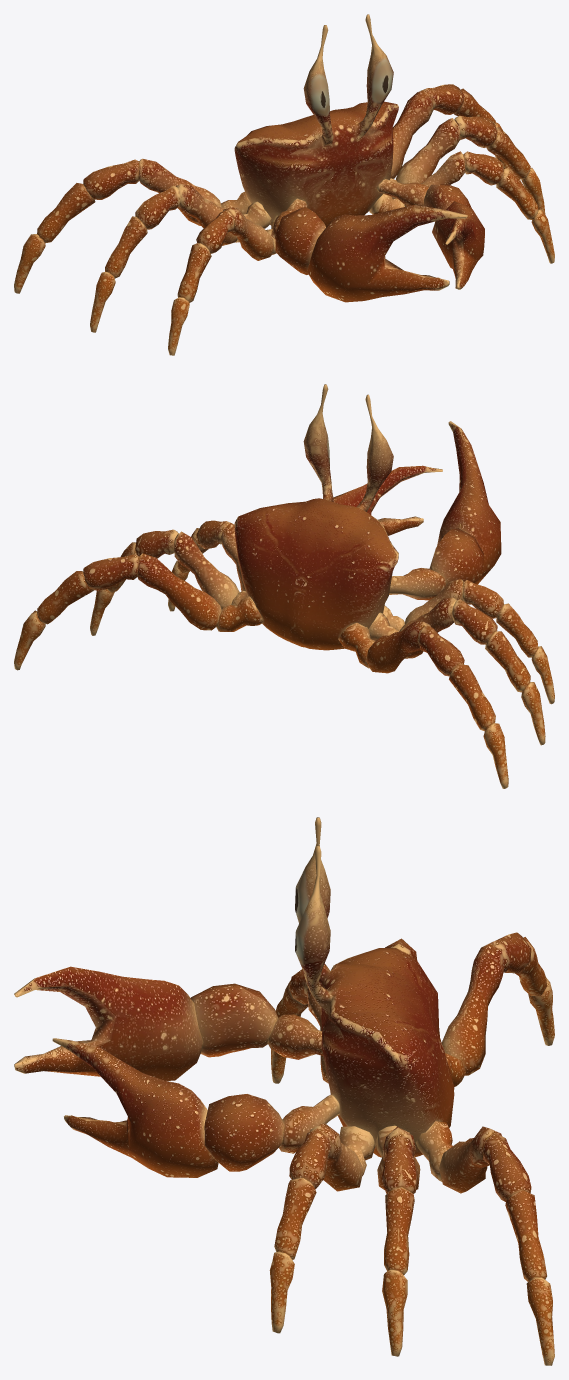
File: Cangrejo_PBR.glb
3 renders of one model, top to bottom at view 1: azimuth 30°, elevation 25°; view 2: azimuth 150°, elevation 25°; view 3: azimuth 270°, elevation 25°, orthographic. The views are drawn at different scales.
Visible parts, largest first — view 1: Cangrejo_MAIN_Geo; view 2: Cangrejo_MAIN_Geo; view 3: Cangrejo_MAIN_Geo.
Part boxes in pixels (x1,y1,x2,y2): Cangrejo_MAIN_Geo: [14, 14, 554, 355]; Cangrejo_MAIN_Geo: [14, 384, 554, 788]; Cangrejo_MAIN_Geo: [14, 817, 554, 1365].
Size of the model in its own units: 16.52 by 8.92 by 11.61.
1 material, 1 textured.
